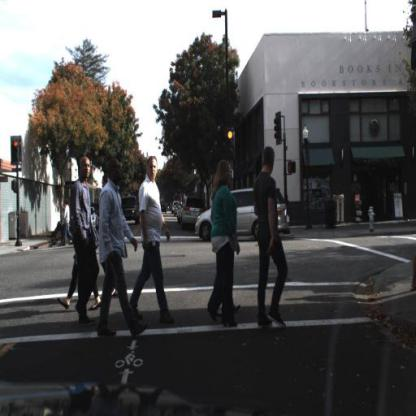car: (195, 188, 291, 245), (122, 198, 138, 222), (91, 208, 97, 229)
pedestrian: (132, 151, 179, 328), (254, 145, 283, 328), (140, 155, 169, 325), (211, 159, 239, 327), (98, 159, 123, 338), (95, 171, 124, 311), (96, 172, 119, 300), (77, 154, 93, 326), (46, 202, 71, 251), (63, 198, 71, 249)
trafficLight-Red: (11, 134, 23, 168), (225, 129, 236, 163)
